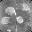people: (4, 7, 17, 16), (1, 17, 11, 25), (16, 16, 24, 24)
